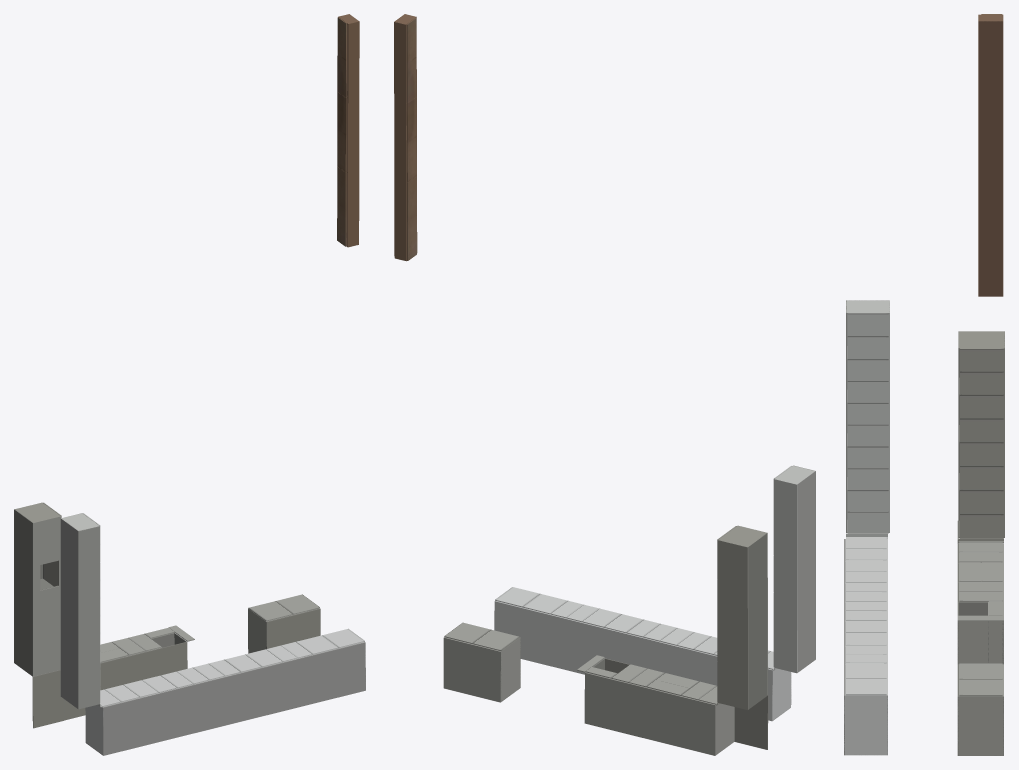
The model's file is large_room_b_builtins.glb.
3 renders of one model, left to right at view 1: azimuth 30°, elevation 25°; view 2: azimuth 150°, elevation 25°; view 3: azimuth 270°, elevation 25°, orthographic. The views are drawn at different scales.
Visible parts, largest first — view 1: built-in_cabinet_2__face_0_row_1__inside__0, built-in_cabinet_2__face_0_row_0__inside__0, built-in_cabinet_2__face_1_row_0__inside__0, built-in_cabinet_2__face_1_row_1__inside__0, built-in_cabinet_2__face_1_row_0__inside__2, built-in_cabinet_2__face_1_row_1__inside__2, built-in_cabinet_1__face_0__inside__0, built-in_cabinet_2__face_0_row_1__inside__1, built-in_cabinet_2__face_0_row_0__inside__1, built-in_cabinet_2__face_1_row_0__inside__1; view 2: built-in_cabinet_2__face_0_row_0__inside__1, built-in_cabinet_2__face_0_row_1__inside__1, built-in_cabinet_2__face_1_row_0__inside__1, built-in_cabinet_2__face_1_row_1__inside__1, built-in_cabinet_2__face_1_row_1__inside__2, built-in_cabinet_2__face_1_row_0__inside__2, built-in_cabinet_1__face_0__inside__1, built-in_cabinet_2__face_0_row_0__inside__0; view 3: built-in_cabinet_1__face_0__inside__2, built-in_cabinet_2__face_0_row_0__inside__1, built-in_cabinet_2__face_0_row_1__inside__1, built-in_cabinet_2__face_1_row_0__inside__1, built-in_cabinet_2__face_1_row_1__inside__1, built-in_cabinet_2__face_1_row_0__part_2_left, built-in_cabinet_2__face_1_row_0__part_2_right, built-in_cabinet_2__face_1_row_0__part_3_left, built-in_cabinet_2__face_1_row_0__part_3_right, built-in_cabinet_2__face_1_row_0__part_0_left, built-in_cabinet_2__face_1_row_0__part_0_right, built-in_cabinet_2__face_1_row_0__part_1_left (+37 smaller).
Boxes of the visible parts, x1=… form: built-in_cabinet_2__face_0_row_1__inside__0: x1=103, y1=642, x2=365, y2=755; built-in_cabinet_2__face_0_row_0__inside__0: x1=32, y1=608, x2=320, y2=728; built-in_cabinet_2__face_1_row_0__inside__0: x1=32, y1=516, x2=61, y2=676; built-in_cabinet_2__face_1_row_1__inside__0: x1=78, y1=526, x2=99, y2=709; built-in_cabinet_2__face_1_row_0__inside__2: x1=14, y1=506, x2=58, y2=676; built-in_cabinet_2__face_1_row_1__inside__2: x1=61, y1=513, x2=99, y2=708; built-in_cabinet_1__face_0__inside__0: x1=347, y1=21, x2=359, y2=246; built-in_cabinet_2__face_0_row_1__inside__1: x1=85, y1=642, x2=363, y2=755; built-in_cabinet_2__face_0_row_0__inside__1: x1=100, y1=608, x2=318, y2=662; built-in_cabinet_2__face_1_row_0__inside__1: x1=14, y1=502, x2=60, y2=662; built-in_cabinet_2__face_0_row_0__inside__1: x1=443, y1=637, x2=734, y2=755; built-in_cabinet_2__face_0_row_1__inside__1: x1=494, y1=601, x2=791, y2=721; built-in_cabinet_2__face_1_row_0__inside__1: x1=717, y1=526, x2=766, y2=709; built-in_cabinet_2__face_1_row_1__inside__1: x1=774, y1=466, x2=814, y2=673; built-in_cabinet_2__face_1_row_1__inside__2: x1=797, y1=471, x2=815, y2=672; built-in_cabinet_2__face_1_row_0__inside__2: x1=719, y1=533, x2=767, y2=709; built-in_cabinet_1__face_0__inside__1: x1=394, y1=14, x2=415, y2=261; built-in_cabinet_2__face_0_row_0__inside__0: x1=520, y1=637, x2=768, y2=749; built-in_cabinet_1__face_0__inside__2: x1=979, y1=15, x2=1003, y2=296; built-in_cabinet_2__face_0_row_0__inside__1: x1=957, y1=541, x2=1003, y2=755; built-in_cabinet_2__face_0_row_1__inside__1: x1=844, y1=537, x2=887, y2=755; built-in_cabinet_2__face_1_row_0__inside__1: x1=958, y1=331, x2=1004, y2=541; built-in_cabinet_2__face_1_row_1__inside__1: x1=846, y1=300, x2=889, y2=536; built-in_cabinet_2__face_1_row_0__part_2_left: x1=960, y1=442, x2=1003, y2=466; built-in_cabinet_2__face_1_row_0__part_2_right: x1=960, y1=466, x2=1003, y2=490; built-in_cabinet_2__face_1_row_0__part_3_left: x1=960, y1=490, x2=1003, y2=514; built-in_cabinet_2__face_1_row_0__part_3_right: x1=960, y1=514, x2=1003, y2=538; built-in_cabinet_2__face_1_row_0__part_0_left: x1=960, y1=348, x2=1003, y2=371; built-in_cabinet_2__face_1_row_0__part_0_right: x1=960, y1=372, x2=1003, y2=395; built-in_cabinet_2__face_1_row_0__part_1_left: x1=960, y1=395, x2=1003, y2=418.
Size of the model in its own units: 8.1 by 14.31 by 2.73.
49 materials, 49 textured.
